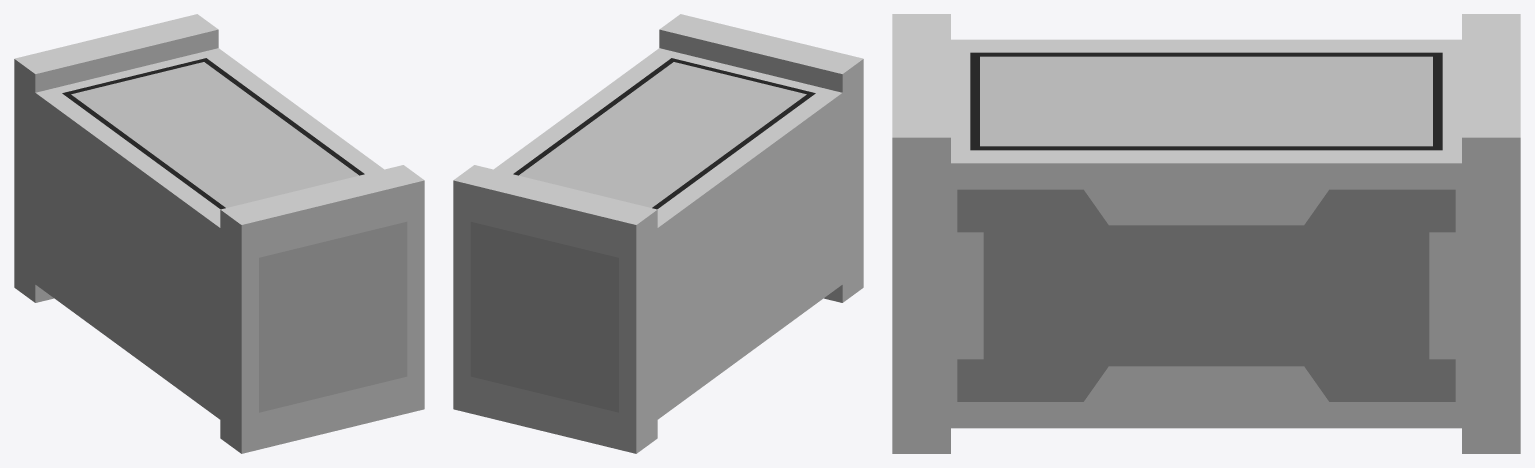
File: SM_Prop_Crate_03.fbx
The picture shows the model from 3 angles, left to right: view 1: azimuth 30°, elevation 25°; view 2: azimuth 150°, elevation 25°; view 3: azimuth 270°, elevation 25°; orthographic projection. The views are drawn at different scales.
Parts seen in each view (by area): view 1: SM_Prop_Crate_03; view 2: SM_Prop_Crate_03; view 3: SM_Prop_Crate_03.
Boxes of the visible parts, x1,y1,x2,y2 form: SM_Prop_Crate_03: [14, 14, 424, 453]; SM_Prop_Crate_03: [453, 14, 863, 453]; SM_Prop_Crate_03: [892, 14, 1520, 453].
Bounding box in the file's own units: 1.23 × 1.47 × 2.65.
